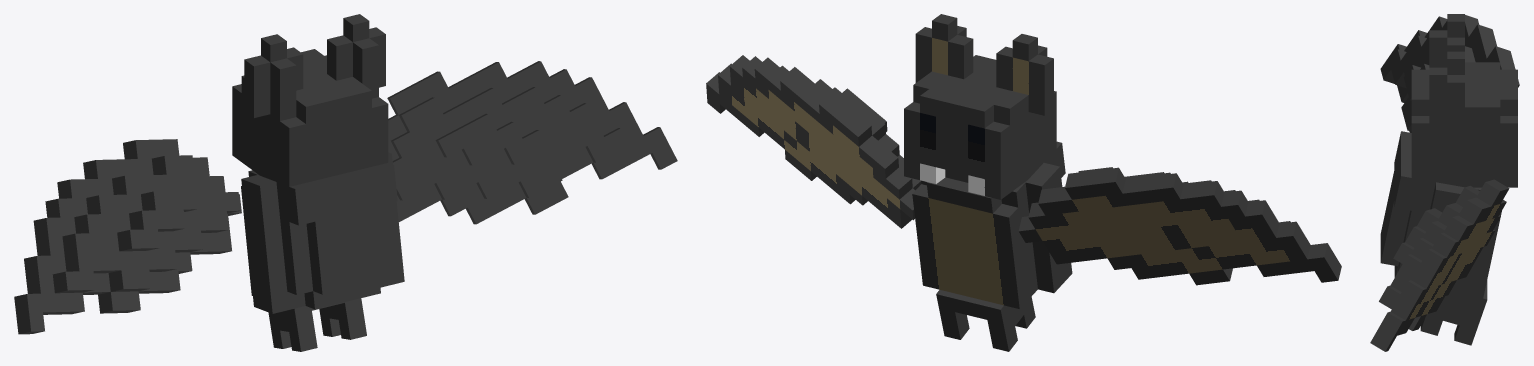
Rendered from batAttack.dae.
3 views of the same model, side by side, from view 1: azimuth 30°, elevation 25°; view 2: azimuth 150°, elevation 25°; view 3: azimuth 270°, elevation 25° (orthographic). The views are drawn at different scales.
Parts seen in each view (by area): view 1: wingR-local, wingL-local, head-local, body-local, paws-local; view 2: wingL-local, head-local, wingR-local, body-local, paws-local; view 3: head-local, wingR-local, body-local, wingL-local, paws-local.
Boxes of the visible parts, box(x1,y1,x2,y2) form: wingR-local: box(387, 61, 677, 224); wingL-local: box(14, 139, 241, 334); head-local: box(232, 14, 388, 186); body-local: box(241, 152, 404, 313); paws-local: box(268, 298, 366, 351); wingL-local: box(1018, 167, 1341, 285); head-local: box(904, 14, 1056, 199); wingR-local: box(706, 55, 921, 228); body-local: box(912, 141, 1072, 309); paws-local: box(936, 289, 1035, 351); head-local: box(1411, 14, 1517, 187); wingR-local: box(1370, 179, 1509, 351); body-local: box(1380, 131, 1501, 306); wingL-local: box(1380, 15, 1519, 132); paws-local: box(1420, 280, 1487, 345).
Size of the model in its own units: 39.45 by 18.3 by 8.44.
5 materials, 5 textured.
